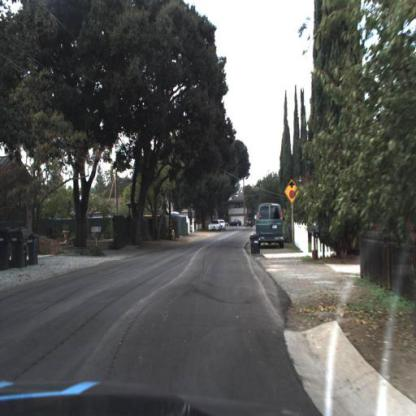car: (256, 203, 287, 251), (255, 202, 288, 247), (208, 220, 222, 234), (244, 216, 256, 231)
